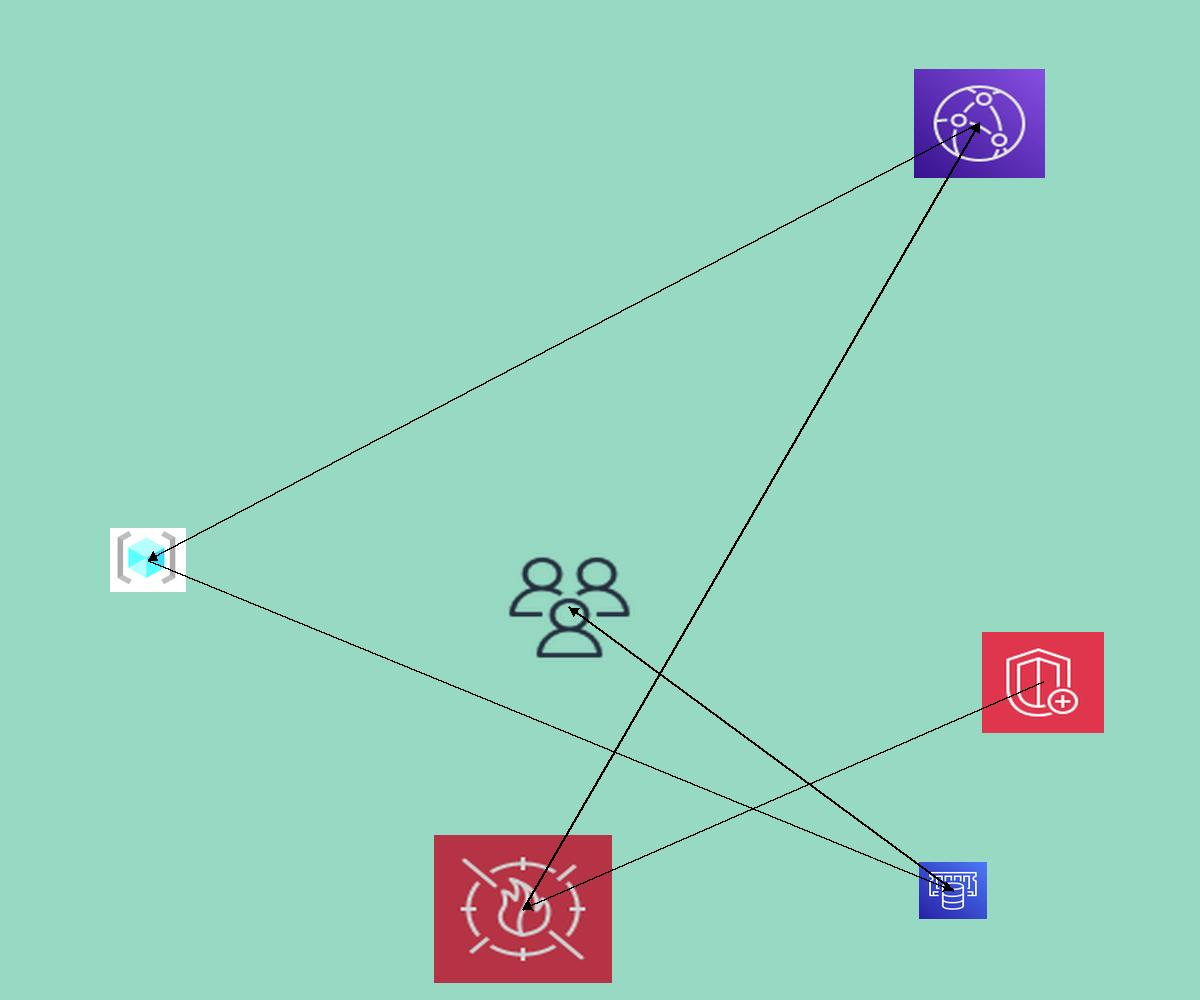AWS-CloudFront: (914, 69, 1045, 178)
AWS-ElastiCache: (919, 862, 987, 919)
AWS-Res_Users: (504, 553, 635, 662)
AWS-Shield: (982, 632, 1104, 733)
AWS-WAF: (434, 835, 612, 983)
Azure_resource_group: (110, 528, 186, 592)
